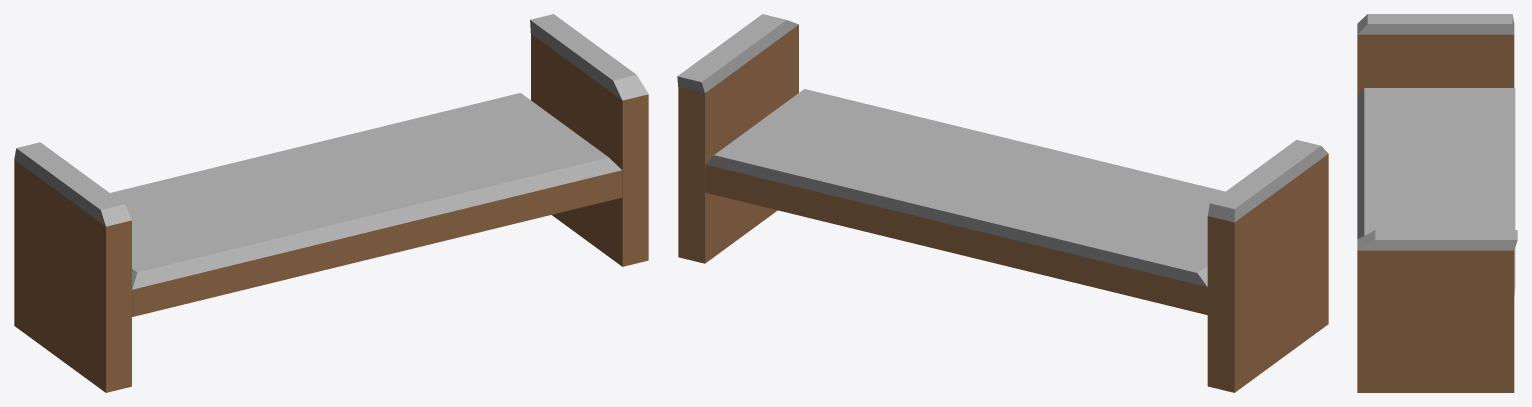
The model's file is Bench_1 winter.fbx.
The picture shows the model from 3 angles, left to right: view 1: azimuth 30°, elevation 25°; view 2: azimuth 150°, elevation 25°; view 3: azimuth 270°, elevation 25°; orthographic projection. The views are drawn at different scales.
Parts seen in each view (by area): view 1: BenchWinter_mesh; view 2: BenchWinter_mesh; view 3: BenchWinter_mesh.
Part boxes in pixels (x1,y1,x2,y2): BenchWinter_mesh: [14, 14, 648, 392]; BenchWinter_mesh: [677, 14, 1328, 392]; BenchWinter_mesh: [1357, 14, 1517, 392].
Bounding box in the file's own units: 253 × 79.29 × 75.63.
